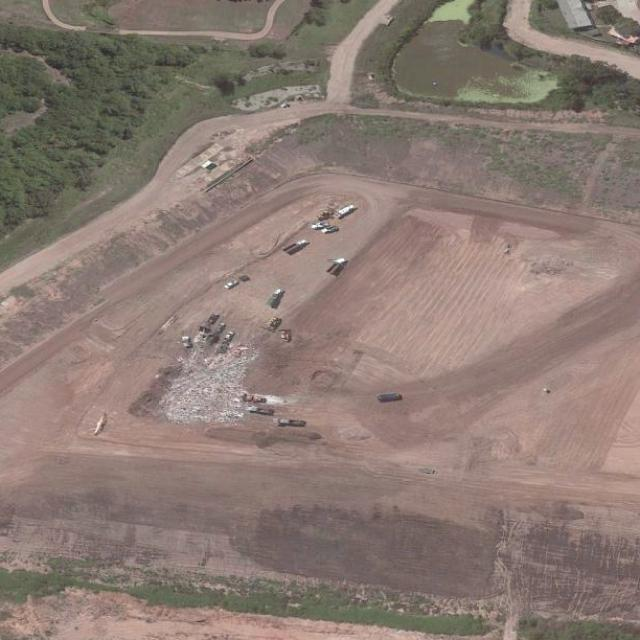dump_site: (154, 348, 242, 432)
